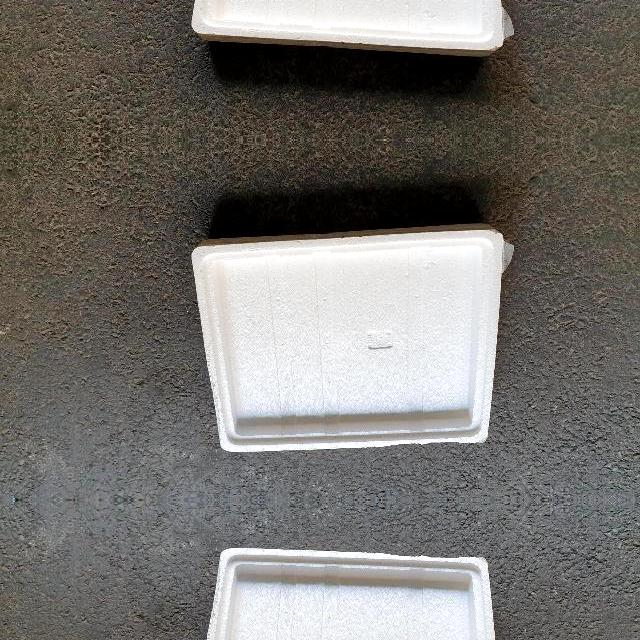Styrofoam: (192, 221, 514, 453), (192, 224, 512, 452), (191, 547, 514, 640), (206, 548, 495, 640), (191, 0, 514, 59), (192, 0, 512, 56)
